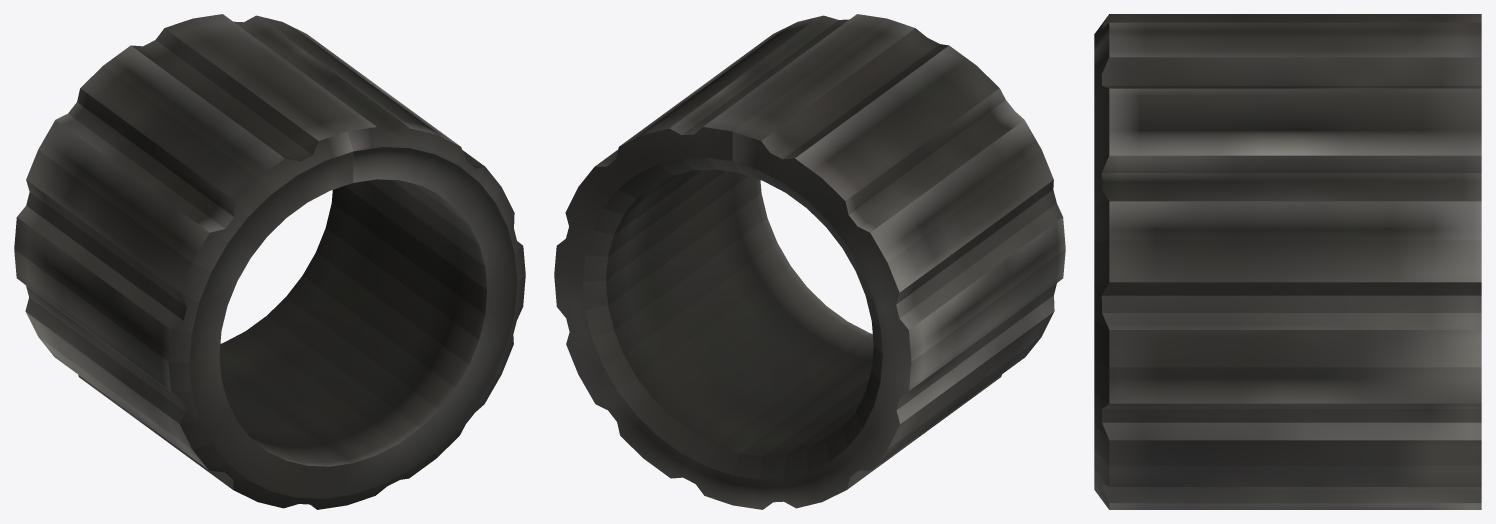
The picture shows the model from 3 angles, left to right: view 1: azimuth 30°, elevation 25°; view 2: azimuth 150°, elevation 25°; view 3: azimuth 270°, elevation 25°; orthographic projection. The views are drawn at different scales.
Parts seen in each view (by area): view 1: TW_668670f52a2296a8d909963c_PZ_Import; view 2: TW_668670f52a2296a8d909963c_PZ_Import; view 3: TW_668670f52a2296a8d909963c_PZ_Import.
Part boxes in pixels (box(x1,y1,x2,y2)): TW_668670f52a2296a8d909963c_PZ_Import: box(14, 14, 525, 509); TW_668670f52a2296a8d909963c_PZ_Import: box(554, 14, 1065, 509); TW_668670f52a2296a8d909963c_PZ_Import: box(1094, 14, 1481, 509).
Bounding box in the file's own units: 0.00923 × 0.00718 × 0.00923.
1 material, 1 textured.
